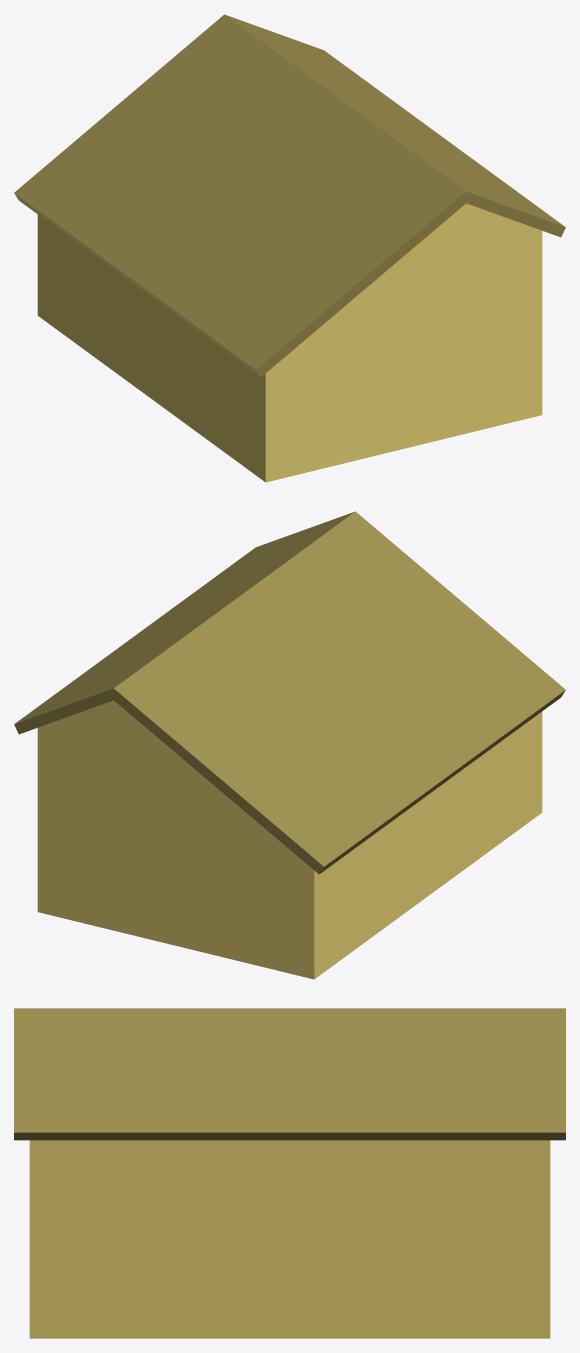
The model's file is result.glb.
The picture shows the model from 3 angles, top to bottom: view 1: azimuth 30°, elevation 25°; view 2: azimuth 150°, elevation 25°; view 3: azimuth 270°, elevation 25°; orthographic projection. The views are drawn at different scales.
Parts seen in each view (by area): view 1: d78cb7b4-3964-4840-8962-dd967ae66efa__undefined (×2), a55bda21-a27e-41df-9441-2883a3410e4d__undefined; view 2: d78cb7b4-3964-4840-8962-dd967ae66efa__undefined (×2), a55bda21-a27e-41df-9441-2883a3410e4d__undefined; view 3: a55bda21-a27e-41df-9441-2883a3410e4d__undefined, d78cb7b4-3964-4840-8962-dd967ae66efa__undefined.
Boxes of the visible parts, x1,y1,x2,y2 form: d78cb7b4-3964-4840-8962-dd967ae66efa__undefined (×2): (14, 14, 565, 377); a55bda21-a27e-41df-9441-2883a3410e4d__undefined: (37, 203, 542, 482); d78cb7b4-3964-4840-8962-dd967ae66efa__undefined (×2): (14, 511, 565, 874); a55bda21-a27e-41df-9441-2883a3410e4d__undefined: (37, 700, 542, 979); a55bda21-a27e-41df-9441-2883a3410e4d__undefined: (29, 1140, 550, 1338); d78cb7b4-3964-4840-8962-dd967ae66efa__undefined: (14, 1008, 565, 1140).
Size of the model in its own units: 785 by 602 by 1060.
